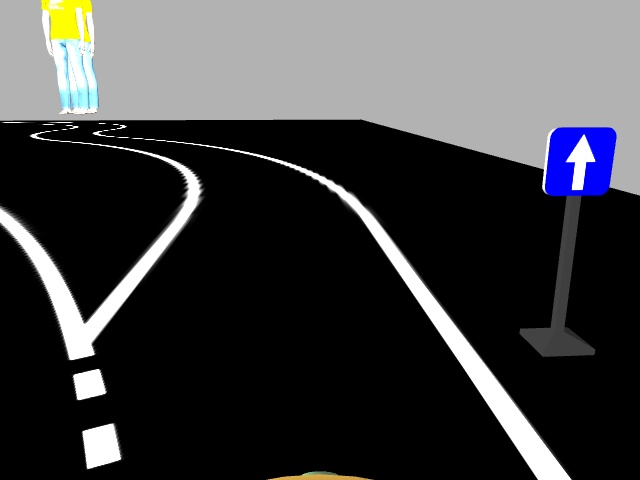OneWay: (541, 124, 614, 197)
